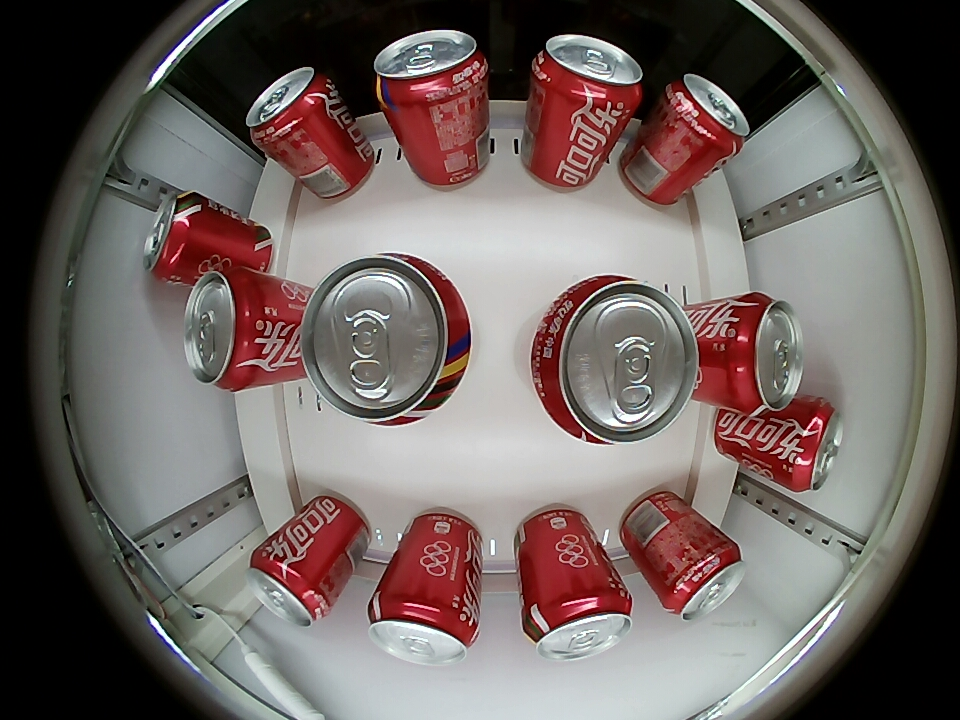kele: (300, 253, 472, 426), (532, 275, 699, 447), (184, 268, 266, 392), (723, 292, 804, 416), (373, 30, 487, 107), (534, 34, 643, 111), (522, 588, 633, 662), (368, 592, 477, 666), (664, 73, 749, 156), (246, 67, 333, 147), (247, 547, 333, 627), (662, 539, 746, 620), (780, 396, 843, 492), (143, 192, 205, 282)
